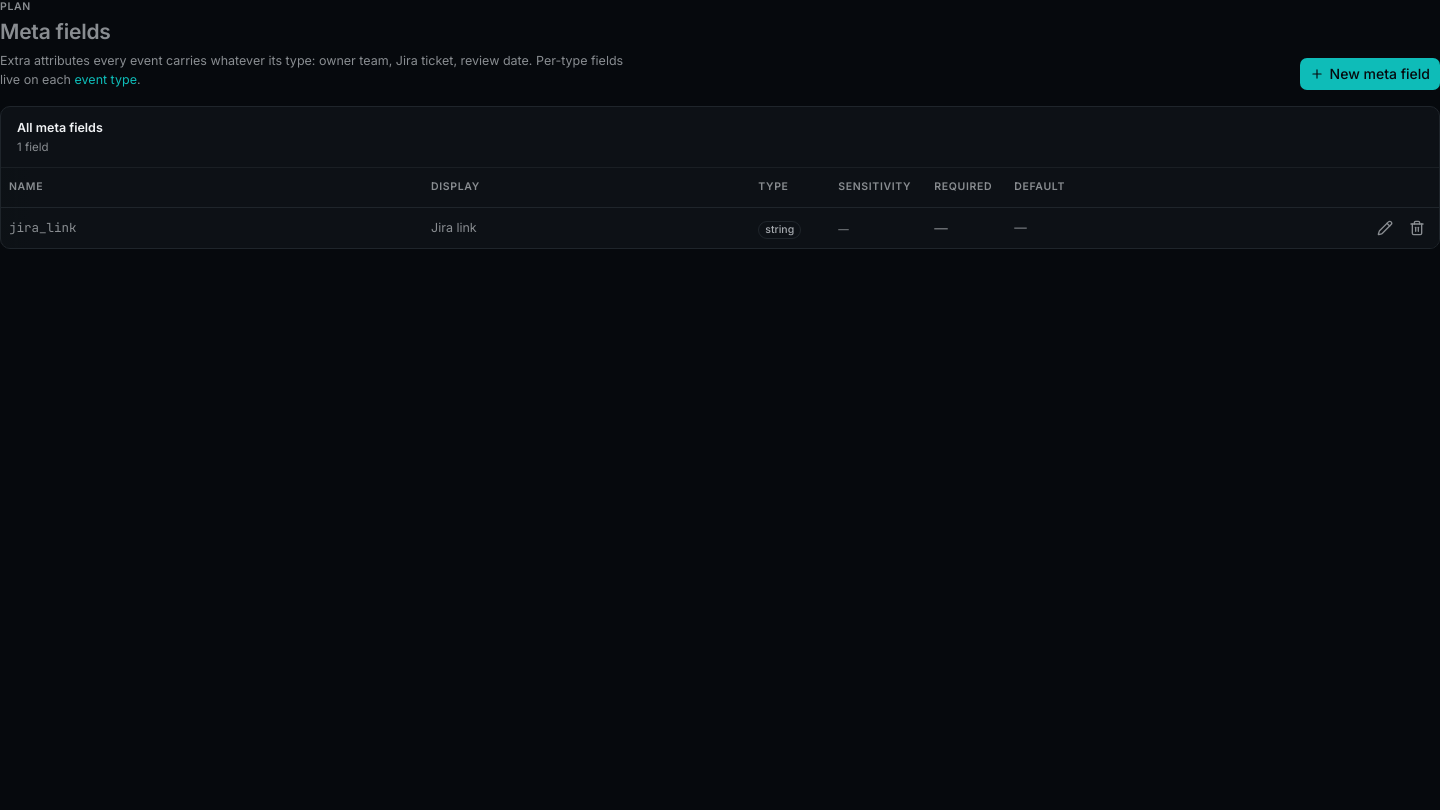
Test: MetaFieldsTab — load and delete states (PLAN-41 / PLAN-54) › counts the values and events a delete removes when the usage answers (AU-37)
Click the button named "Delete Jira link" at (1417,228), box [1403, 214, 1431, 242]
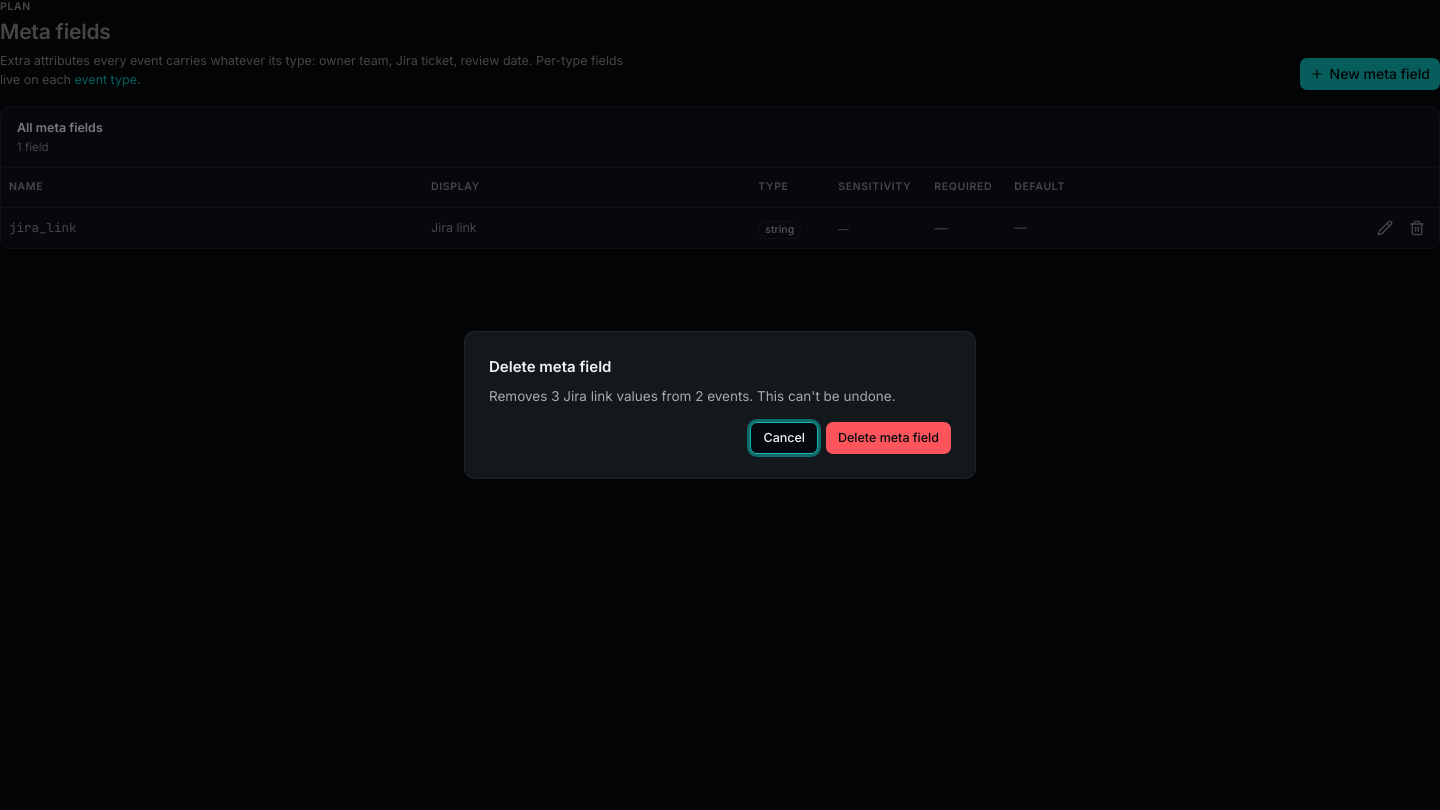
expect the text "Removes 3 Jira link values from 2 events. This can't be undone." is shown: met, box [489, 386, 951, 406]
